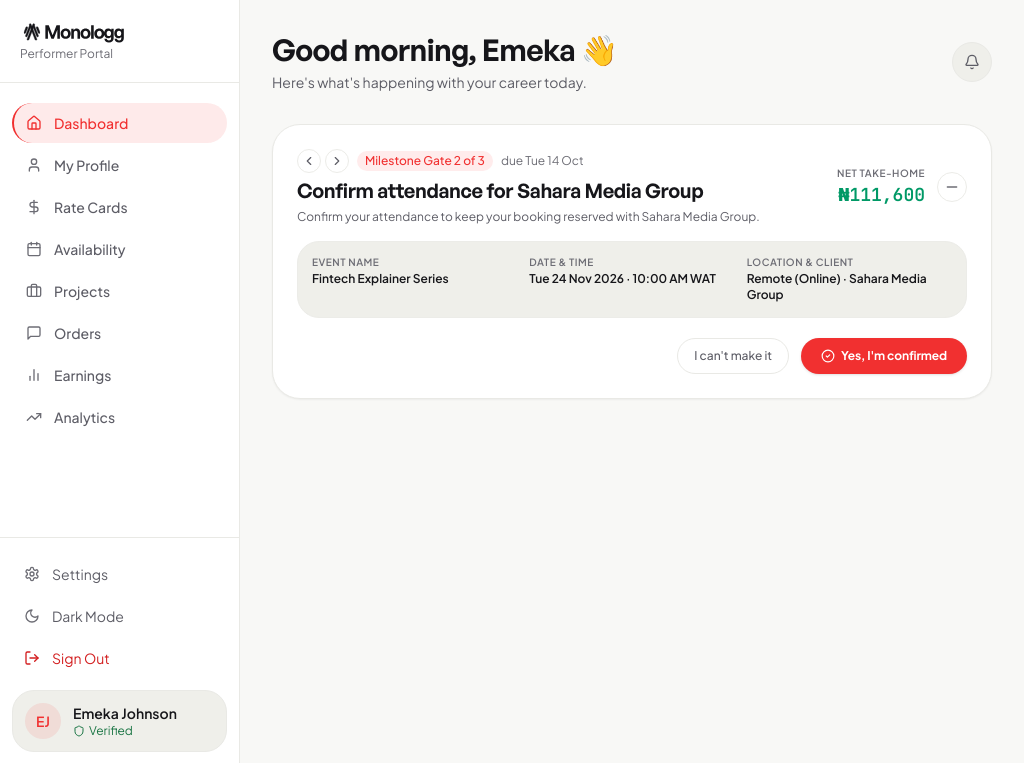
Test: TalentDashboard — Home Balance CTA, Quick Actions & Analytics Navigation › renders sole Withdraw Funds CTA on home balance card and navigates to Analytics via sidebar
Expected: the text "Here's what's happening with your career today." is shown, 272,72 -> 618,92
Navigate to Analytics via sidebar
Click the button "Analytics" at (120, 417), box 12,397 -> 227,437
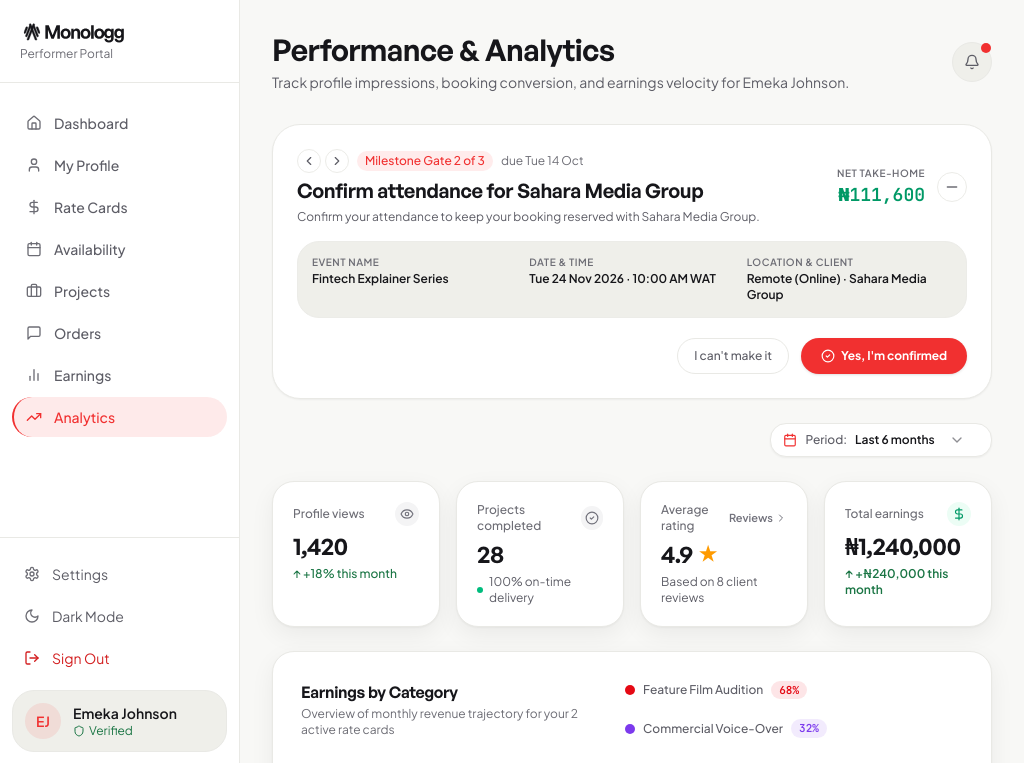
Expected: the dropdown named "Analytics date range" is shown, 855,432 -> 979,448
Expected: the text "Profile views" is shown, 293,506 -> 365,522
Expected: the text "Projects completed" is shown, 477,502 -> 541,533
